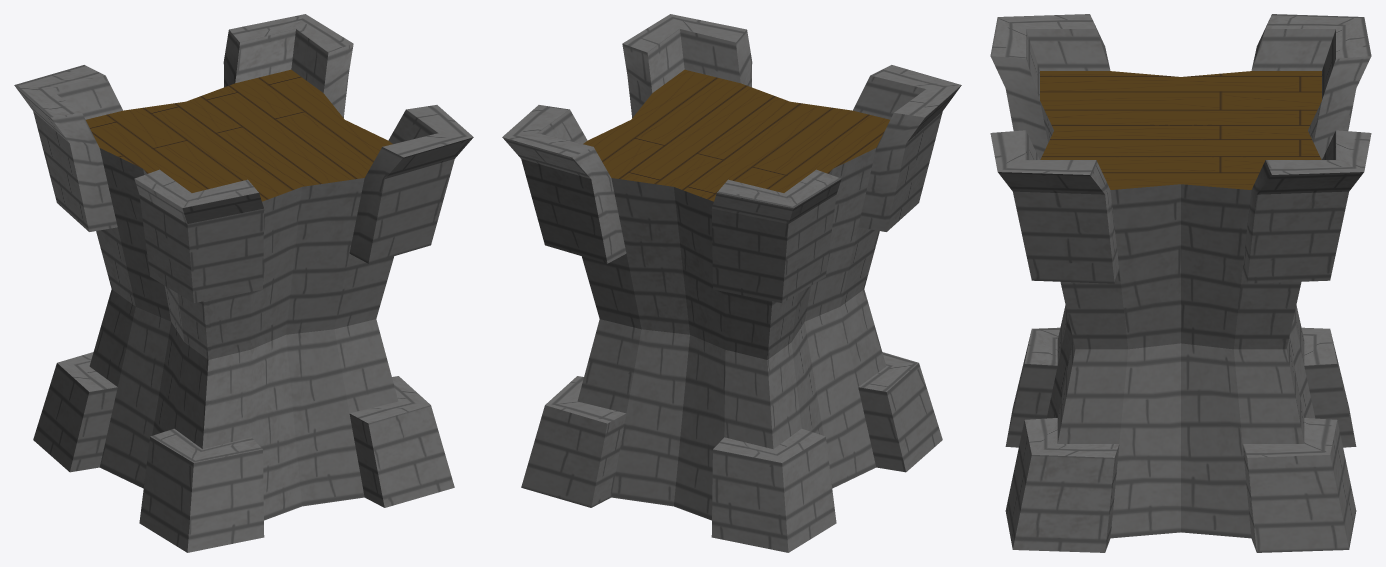
The model's file is Pfeilturm.fbx.
The picture shows the model from 3 angles, left to right: view 1: azimuth 30°, elevation 25°; view 2: azimuth 150°, elevation 25°; view 3: azimuth 270°, elevation 25°; orthographic projection. The views are drawn at different scales.
Visible parts, largest first — view 1: Pfeilturm; view 2: Pfeilturm; view 3: Pfeilturm.
Boxes of the visible parts, left/top/right/bottom form: Pfeilturm: left=14, top=14, right=473, bottom=552; Pfeilturm: left=502, top=14, right=961, bottom=552; Pfeilturm: left=990, top=14, right=1371, bottom=552.
Bounding box in the file's own units: 298 × 331 × 298.
